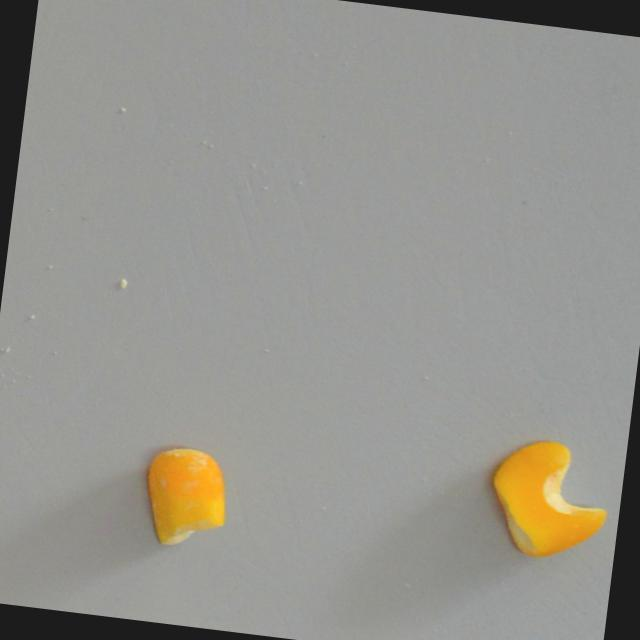no_canjicado: (477, 432, 617, 568)
pelicula: (128, 439, 241, 559)
